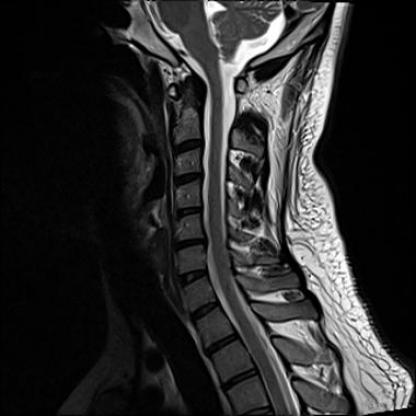Disc Bulgerotation: (172, 235, 208, 253)
